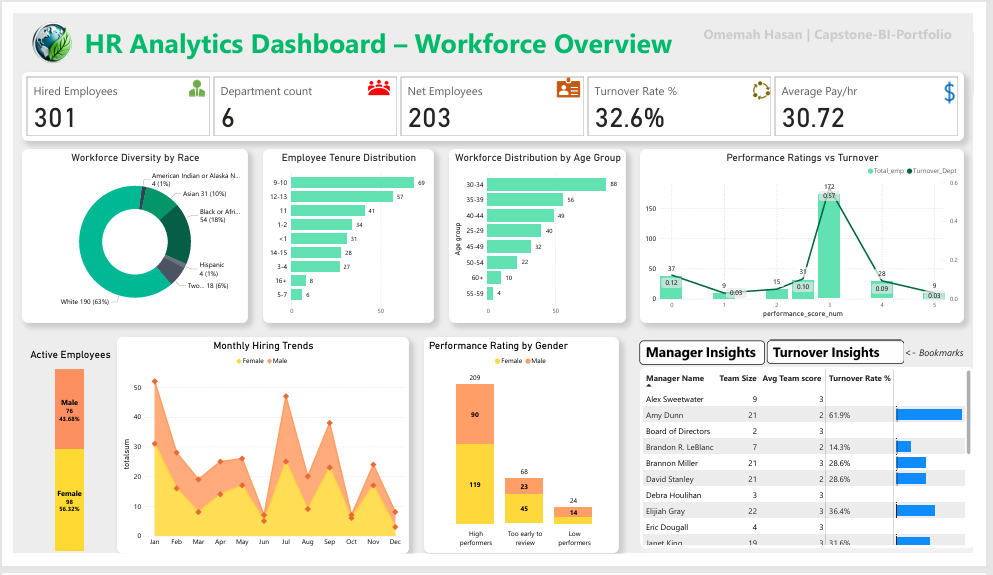

The page's visual inventory and layout, read from the dashboard file:
{"tool":"powerbi","page":{"name":"Dashboard","canvas":[1920,1080],"ordinal":0},"visuals":[{"type":"barChart","title":"Employee Tenure Distribution","fields":{"Category":["Master_Table_1.Tenure years"],"Y":["Master_Table_1.Total_emp"]},"box":[498,287.8,355.1,346.9],"z":0},{"type":"clusteredBarChart","title":"Workforce Distribution by Age Group","fields":{"Category":["Master_Table_1.Age group"],"Y":["Master_Table_1.Total_emp"]},"box":[871.4,287.8,367.3,346.9],"z":1000},{"type":"stackedAreaChart","title":"Monthly Hiring Trends","fields":{"Category":["Master_Table_1.Hire_month"],"Y":["master_table3.totalsum"],"Series":["Master_Table_1.Sex"]},"box":[205.2,669.7,584.5,410.3],"z":2000},{"type":"hundredPercentStackedColumnChart","title":"Active Employees ","fields":{"Y":["Master_Table_1.Active Employees"],"Series":["Master_Table_1.Sex"]},"box":[0,670,226,410],"z":3000},{"type":"tableEx","title":"Manager_details","fields":{"Values":["Master_Table_1.Manager_Name","Master_Table_1.Team Size","Master_Table_1.Avg Team Performance","Master_Table_1.Turnover Rate %","Master_Table_1.Turnover_Rate %"]},"box":[1252.3,706.5,667.7,361.9],"z":4000},{"type":"cardVisual","fields":{"Data":["Master_Table_1.Total_emp","Master_Table_1.Department count","Master_Table_1.Net Employees","Master_Table_1.Turnover Rate %","Avg(Master_Table_1.Pay)"]},"box":[15.5,116.1,1885.2,156.8],"z":5000},{"type":"lineStackedColumnComboChart","title":"Performance Ratings vs Turnover","fields":{"Category":["Master_Table_1.performance_score_num"],"Y":["Master_Table_1.Total_emp"],"Y2":["Master_Table_1.Turnover_Dept"]},"box":[1252.3,288.4,648.4,346.5],"z":6000},{"type":"lineStackedColumnComboChart","title":"Performance Rating by Gender","fields":{"Series":["Master_Table_1.Sex"],"Category":["Master_Table_1.Performance_group"],"Y":["Master_Table_1.Total_emp"]},"box":[820.4,669.4,402,398],"z":7000},{"type":"textbox","box":[136,16,1254,82],"z":8000},{"type":"image","box":[338,120,56,56],"z":9000},{"type":"image","box":[1076,110,66,74],"z":10000},{"type":"image","box":[1842,126,58,62],"z":11000},{"type":"image","box":[696,116,68,62],"z":12000},{"type":"image","box":[1464,120,60,66],"z":13000},{"type":"textbox","box":[1374,16,526,60],"z":14000},{"type":"image","title":"Turnover_tab","box":[1494.2,634.8,288.4,112.3],"z":15000},{"type":"image","title":"Manager_tab","box":[1223.2,656.1,300,67.7],"z":16000},{"type":"donutChart","title":"Workforce Diversity by Race","fields":{"Y":["Master_Table_1.Total_emp"],"Category":["Master_Table_1.RaceDesc"]},"box":[16.3,287.8,463.3,346.9],"z":18000},{"type":"image","box":[0,0,152,116],"z":19000},{"type":"textbox","box":[1776.3,656.6,143.4,50],"z":20000}]}

Visuals, with their boxes in screenshot pixels (x1, y1, x2, y2), scaled from the page's 1920x1080 canvas onto the 993x575 screenshot:
"Employee Tenure Distribution" barChart: [258, 153, 441, 338]
"Workforce Distribution by Age Group" clusteredBarChart: [451, 153, 641, 338]
"Monthly Hiring Trends" stackedAreaChart: [106, 357, 408, 574]
"Active Employees " hundredPercentStackedColumnChart: [0, 357, 117, 574]
"Manager_details" tableEx: [648, 376, 992, 569]
cardVisual - Master_Table_1.Total_emp x Master_Table_1.Department count: [8, 62, 983, 145]
"Performance Ratings vs Turnover" lineStackedColumnComboChart: [648, 154, 983, 338]
"Performance Rating by Gender" lineStackedColumnComboChart: [424, 356, 632, 568]
textbox: [70, 9, 719, 52]
image: [175, 64, 204, 94]
image: [556, 59, 591, 98]
image: [953, 67, 983, 100]
image: [360, 62, 395, 95]
image: [757, 64, 788, 99]
textbox: [711, 9, 983, 40]
"Turnover_tab" image: [773, 338, 922, 398]
"Manager_tab" image: [633, 349, 788, 385]
"Workforce Diversity by Race" donutChart: [8, 153, 248, 338]
image: [0, 0, 79, 62]
textbox: [919, 350, 992, 376]
